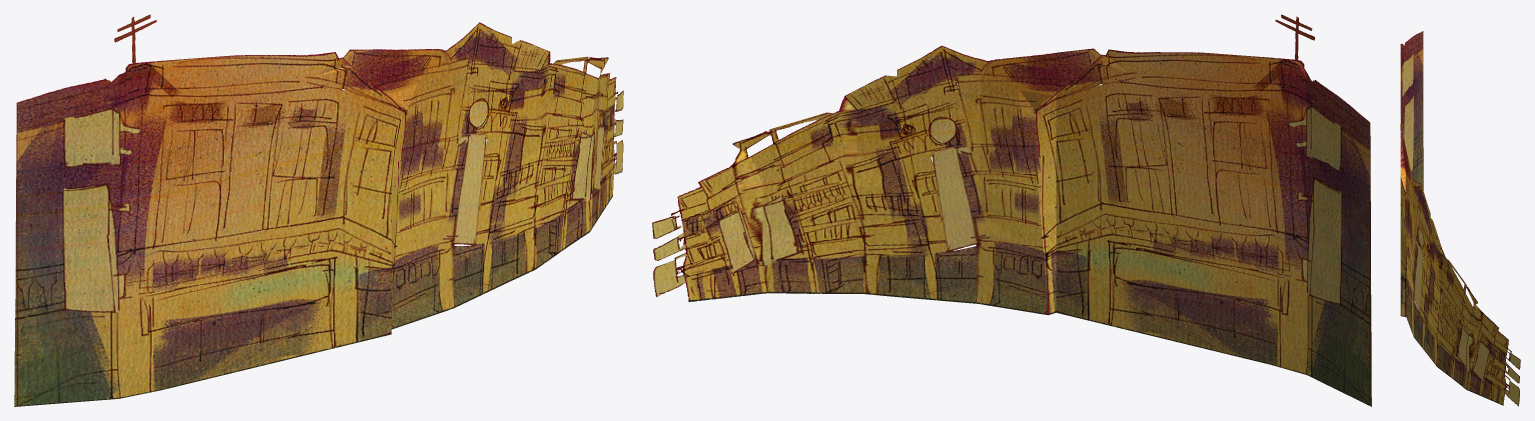
The model's file is 01_front_bld_02.fbx.
3 views of the same model, side by side, from view 1: azimuth 30°, elevation 25°; view 2: azimuth 150°, elevation 25°; view 3: azimuth 270°, elevation 25° (orthographic). The views are drawn at different scales.
Parts seen in each view (by area): view 1: 房子_02; view 2: 房子_02; view 3: 房子_02.
Boxes of the visible parts, <box> form: 房子_02: <box>14,14,623,406</box>; 房子_02: <box>652,14,1371,406</box>; 房子_02: <box>1400,31,1520,406</box>.
Size of the model in its own units: 443 by 234 by 112.
1 material, 1 textured.
